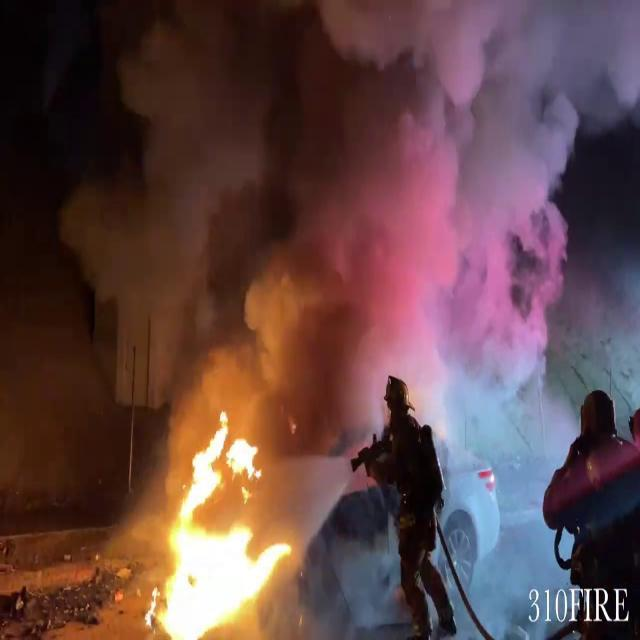Fire: (130, 408, 284, 638)
Smoke: (65, 0, 633, 412)
